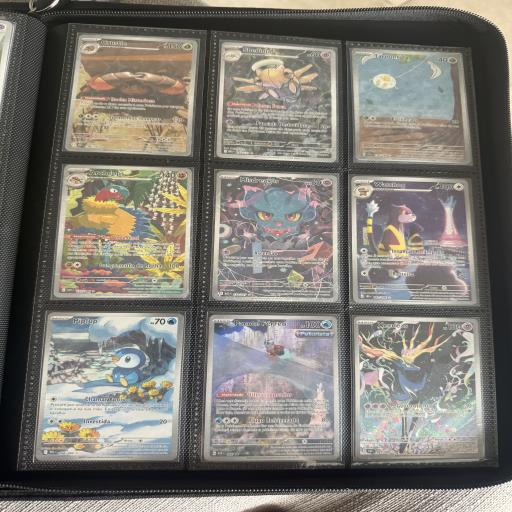card: (34, 312, 184, 462), (204, 315, 342, 463), (353, 314, 484, 459), (53, 164, 192, 298), (351, 174, 478, 307), (212, 171, 340, 302), (64, 34, 198, 156), (216, 42, 342, 164), (347, 48, 475, 164)
